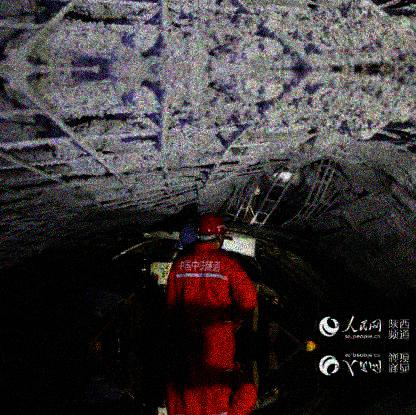helmet: (196, 212, 227, 251)
